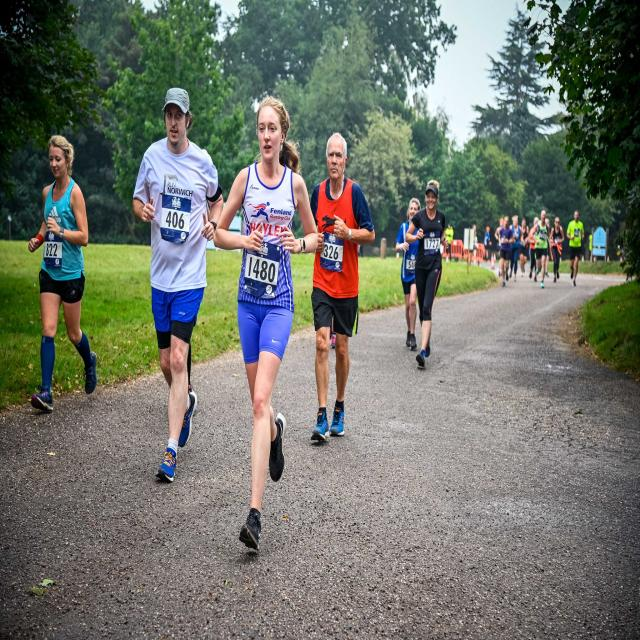Person: (213, 97, 318, 550), (132, 88, 224, 484), (311, 133, 375, 447), (28, 136, 97, 409), (405, 180, 448, 369), (395, 198, 421, 350), (566, 210, 585, 288), (531, 210, 548, 288), (499, 217, 514, 290)
